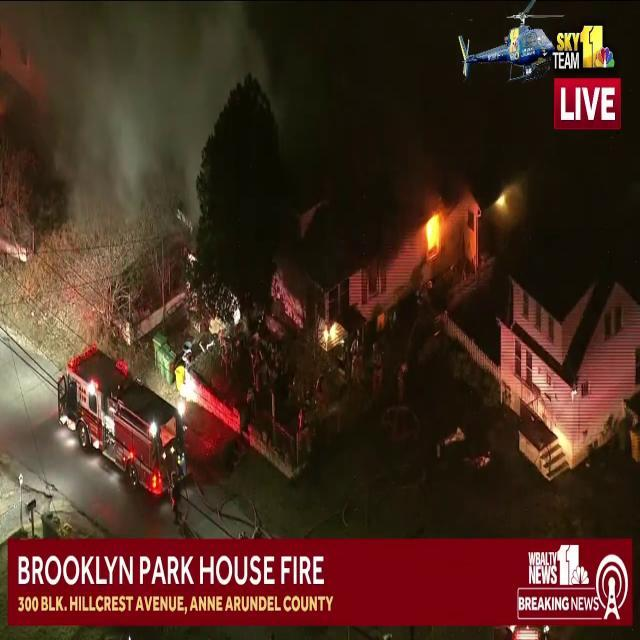Fire: (422, 206, 444, 256)
Smoke: (42, 0, 247, 265)
